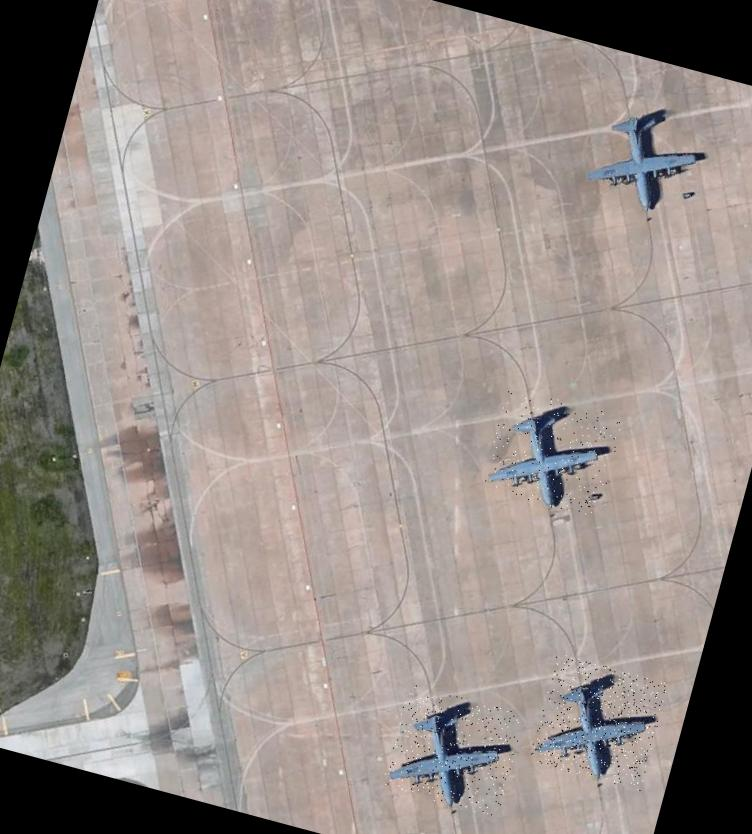A2: (574, 90, 722, 224), (528, 653, 669, 791), (381, 684, 525, 818), (482, 386, 626, 519)
